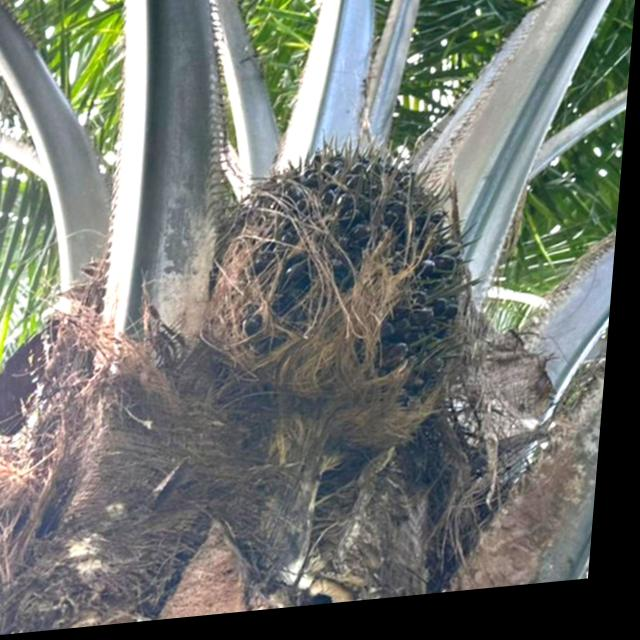almost: (196, 115, 509, 434)
